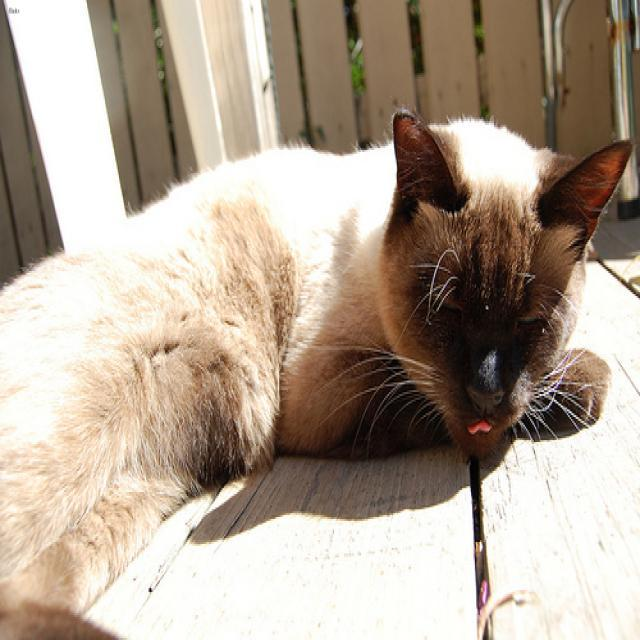Siamese: (377, 99, 635, 461)
